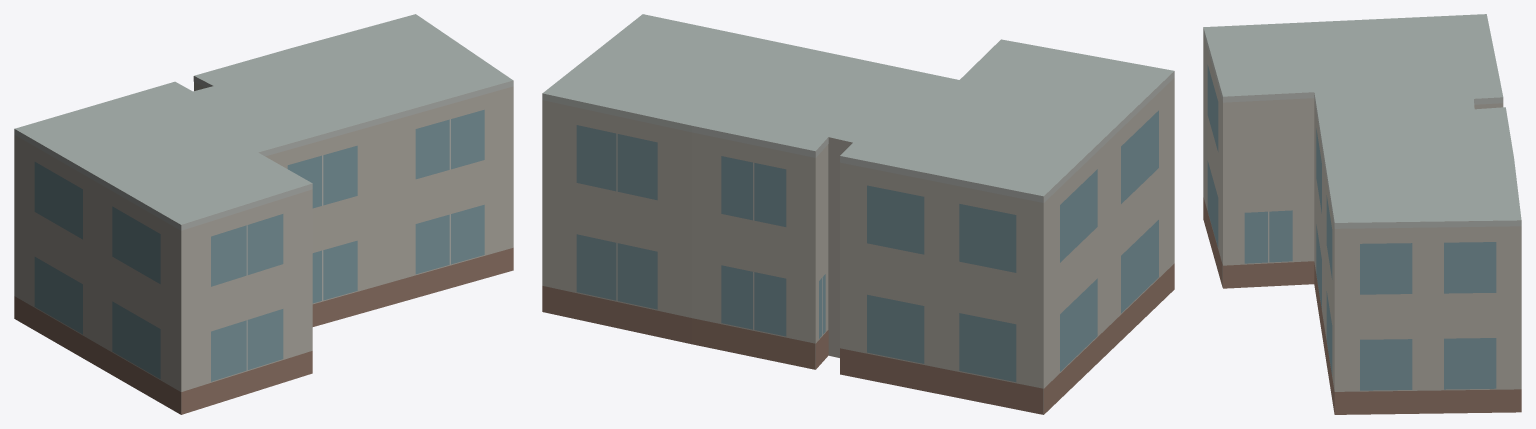
File: survey-upis-33032135.glb
3 renders of one model, left to right at view 1: azimuth 30°, elevation 25°; view 2: azimuth 150°, elevation 25°; view 3: azimuth 270°, elevation 25°, orthographic. The views are drawn at different scales.
Parts seen in each view (by area): view 1: survey-upis-33032135.tmp; view 2: survey-upis-33032135.tmp; view 3: survey-upis-33032135.tmp.
Boxes of the visible parts, bbox=[...] form: survey-upis-33032135.tmp: bbox=[14, 14, 513, 414]; survey-upis-33032135.tmp: bbox=[542, 14, 1174, 414]; survey-upis-33032135.tmp: bbox=[1203, 14, 1521, 414].
Bounding box in the file's own units: 18.46 × 7.9 × 11.88.
